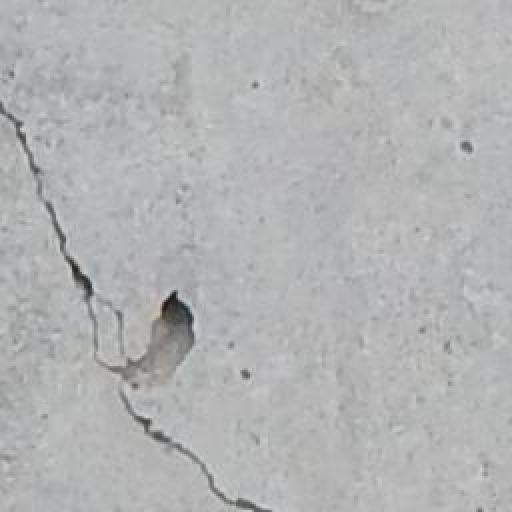spalling: (3, 85, 265, 507)
